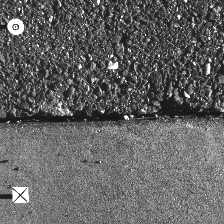circle: (7, 18, 24, 35)
crack: (1, 109, 223, 126)
square: (11, 187, 29, 203)
